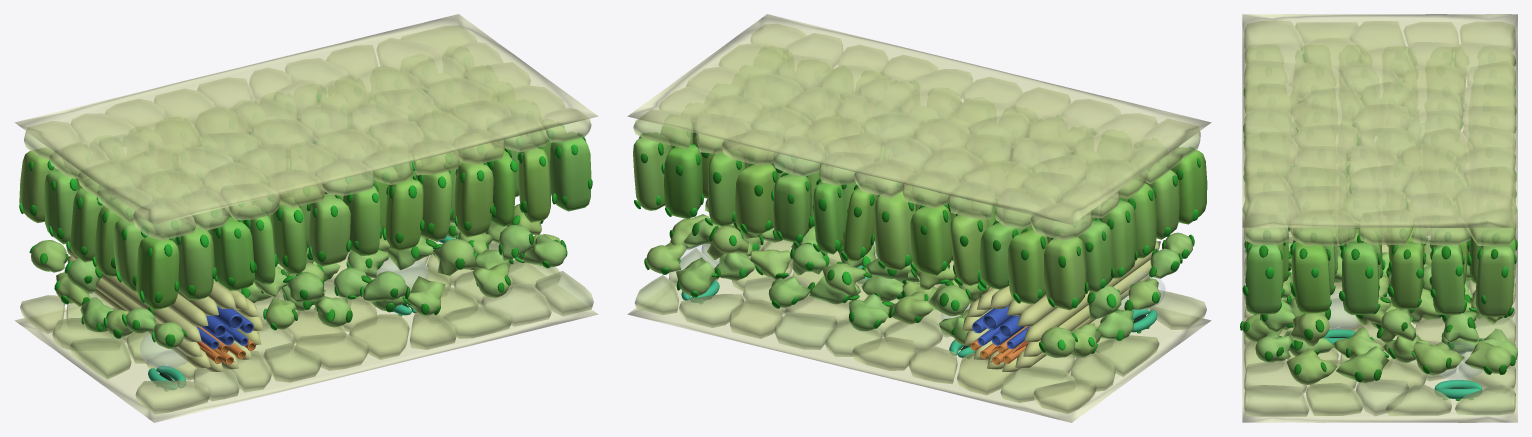
The model's file is leaf.glb.
3 views of the same model, side by side, from view 1: azimuth 30°, elevation 25°; view 2: azimuth 150°, elevation 25°; view 3: azimuth 270°, elevation 25° (orthographic).
Visible parts, largest first — view 1: Cuticle_Mesh, Epidermis_Upper_Mesh, Epidermis_Lower_Mesh, LeafSection, Palisade_78_Mesh, Palisade_6_Mesh, Palisade_18_Mesh, Palisade_60_Mesh, Palisade_36_Mesh, Palisade_12_Mesh, Palisade_48_Mesh, Palisade_42_Mesh (+31 smaller); view 2: Cuticle_Mesh, Epidermis_Upper_Mesh, Epidermis_Lower_Mesh, LeafSection, Palisade_31_Mesh, Palisade_1_Mesh, Palisade_25_Mesh, Palisade_67_Mesh, Palisade_7_Mesh, Palisade_55_Mesh, Palisade_49_Mesh, Palisade_73_Mesh (+33 smaller); view 3: Cuticle_Mesh, Epidermis_Upper_Mesh, Epidermis_Lower_Mesh, Palisade_73_Mesh, Palisade_77_Mesh, Palisade_78_Mesh, Palisade_76_Mesh, Palisade_74_Mesh, Palisade_75_Mesh, Spongy_29_Mesh, Spongy_54_Mesh, Spongy_13_Mesh (+32 smaller).
Part boxes in pixels (<box>): Cuticle_Mesh: <box>14,14,598,422</box>; Epidermis_Upper_Mesh: <box>24,25,591,240</box>; Epidermis_Lower_Mesh: <box>20,233,593,414</box>; LeafSection: <box>65,244,263,372</box>; Palisade_78_Mesh: <box>550,132,591,211</box>; Palisade_6_Mesh: <box>136,234,179,310</box>; Palisade_18_Mesh: <box>208,216,254,290</box>; Palisade_60_Mesh: <box>454,159,493,237</box>; Palisade_36_Mesh: <box>308,193,350,266</box>; Palisade_12_Mesh: <box>175,224,214,299</box>; Palisade_48_Mesh: <box>384,177,423,250</box>; Palisade_42_Mesh: <box>343,180,380,255</box>; Cuticle_Mesh: <box>627,14,1211,422</box>; Epidermis_Upper_Mesh: <box>633,24,1200,240</box>; Epidermis_Lower_Mesh: <box>635,240,1206,414</box>; LeafSection: <box>962,241,1160,372</box>; Palisade_31_Mesh: <box>874,188,916,270</box>; Palisade_1_Mesh: <box>1044,233,1086,310</box>; Palisade_25_Mesh: <box>910,202,952,275</box>; Palisade_67_Mesh: <box>664,143,702,219</box>; Palisade_7_Mesh: <box>1008,228,1048,303</box>; Palisade_55_Mesh: <box>735,161,776,234</box>; Palisade_49_Mesh: <box>773,173,811,242</box>; Palisade_73_Mesh: <box>633,133,671,210</box>; Cuticle_Mesh: <box>1242,14,1517,422</box>; Epidermis_Upper_Mesh: <box>1244,20,1515,245</box>; Epidermis_Lower_Mesh: <box>1244,219,1515,416</box>; Palisade_73_Mesh: <box>1475,245,1514,316</box>; Palisade_77_Mesh: <box>1291,241,1330,313</box>; Palisade_78_Mesh: <box>1245,239,1281,314</box>; Palisade_76_Mesh: <box>1342,242,1378,314</box>; Palisade_74_Mesh: <box>1431,243,1464,314</box>; Palisade_75_Mesh: <box>1391,242,1423,309</box>; Spongy_29_Mesh: <box>1413,341,1464,375</box>; Spongy_54_Mesh: <box>1287,349,1337,384</box>; Spongy_13_Mesh: <box>1336,346,1388,383</box>.
Bounding box in the file's own units: 4.85 × 2.11 × 2.66.
